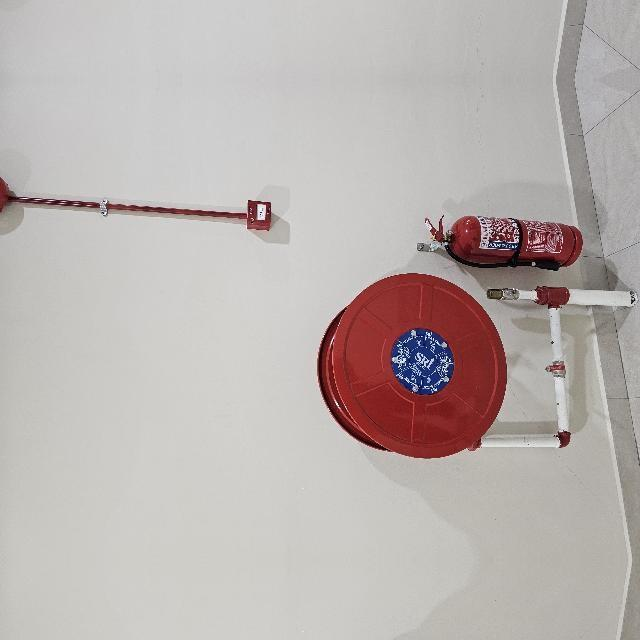obstacle: (105, 398, 279, 640), (105, 404, 279, 640), (287, 454, 349, 626), (287, 494, 349, 640)
